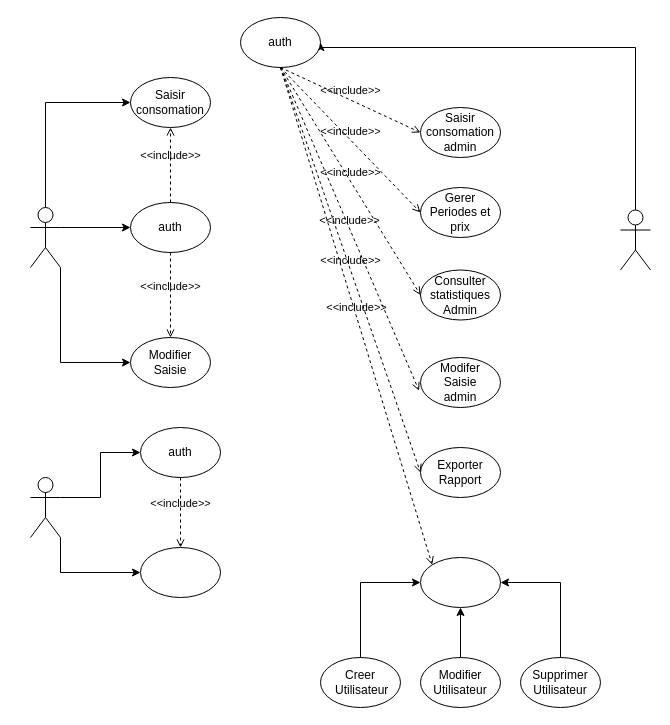
The diagram is 670 pixels wide and 725 high, and some of its shapes have lost their labels. The shapes that lost their labels are listed below. From the top down, each one's centre as x and y in pixels, then its label:
At (x=45, y=237): "Technicien".
At (x=635, y=239): "Admin".
At (x=45, y=507): "Utilisateur".
At (x=180, y=572): "Consulter statistiques".
At (x=460, y=582): "Gerer Utilisateur".
